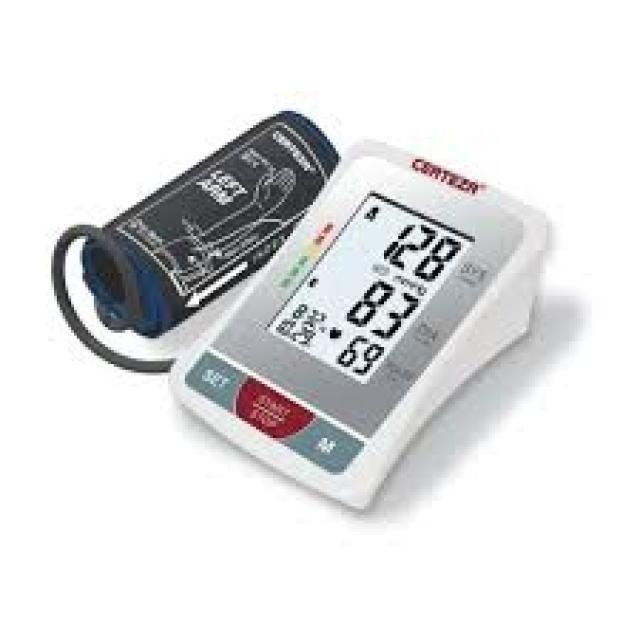dia: (333, 260, 425, 355)
pul: (323, 318, 393, 389)
ssd: (264, 170, 477, 399)
sys: (364, 204, 476, 295)
